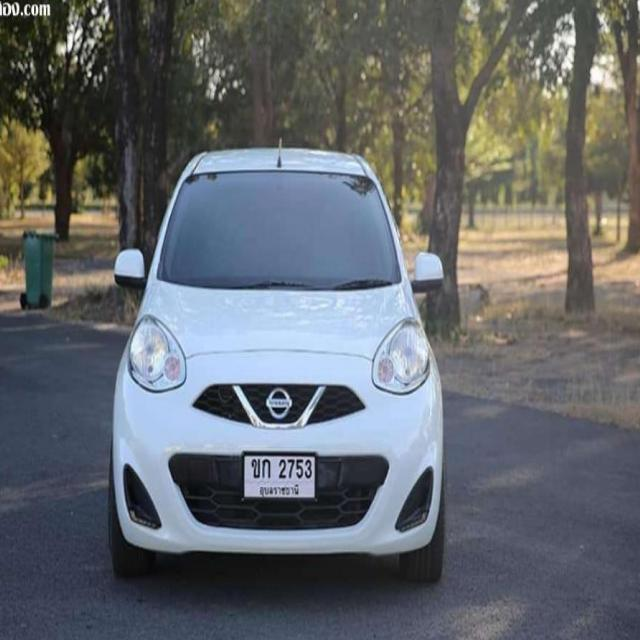license_plate: (239, 449, 320, 505)
